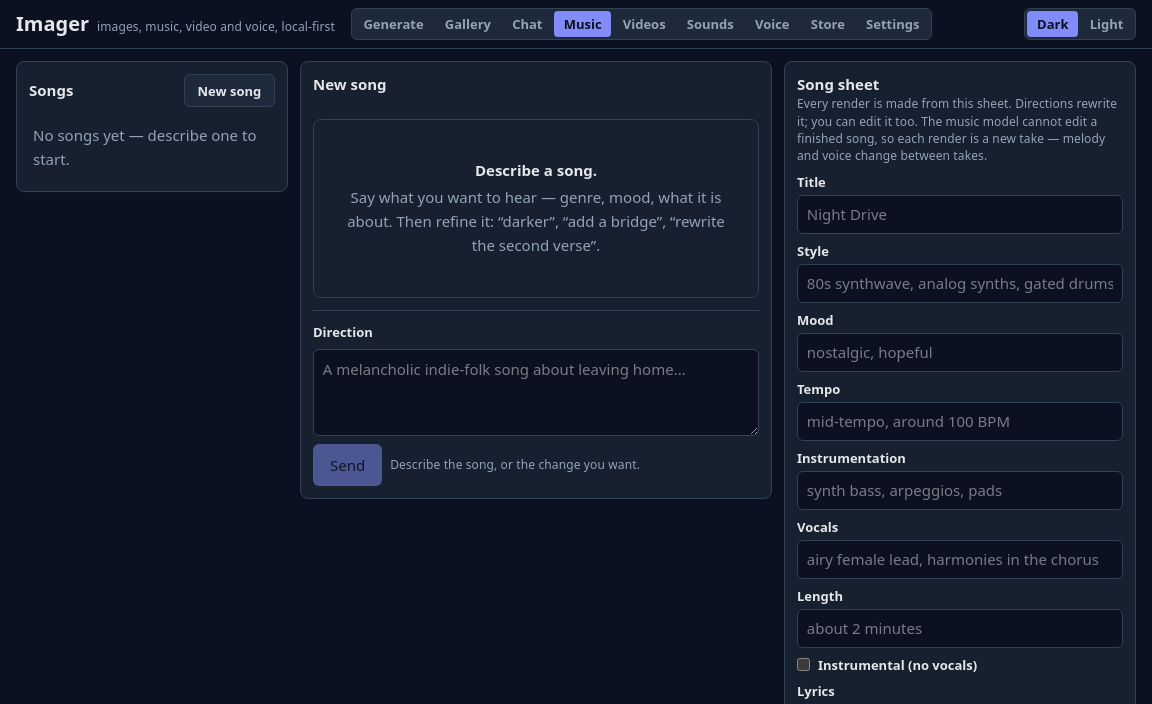
Test: a refinement sends the sheet AS IT STANDS ON SCREEN, hand edits included
Type "synthwave night drive" into the text box labelled "Direction" at (536, 393), box [313,349,759,436]
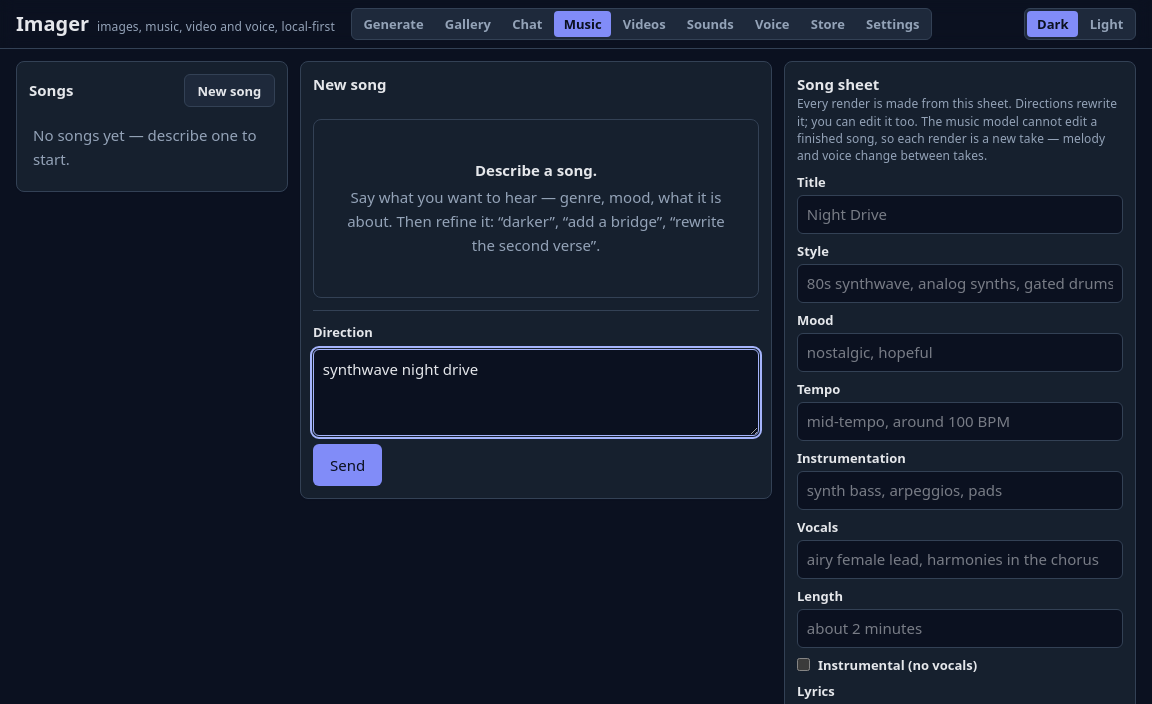
Click the button "Send" at (348, 465), box [313,444,382,486]
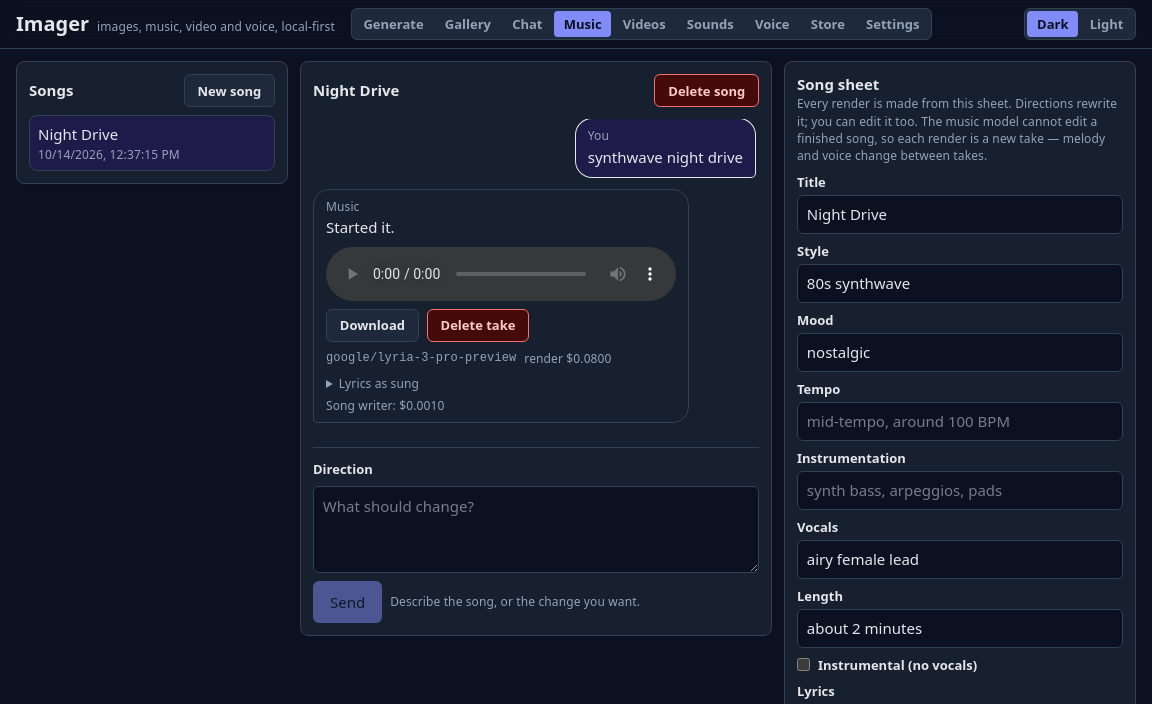
Expected: the element named "Play Night Drive" is shown, [326,247,676,301]
Replace the text in the field labelled "Mood" with "melancholic" at (960, 352), box [797,333,1123,372]
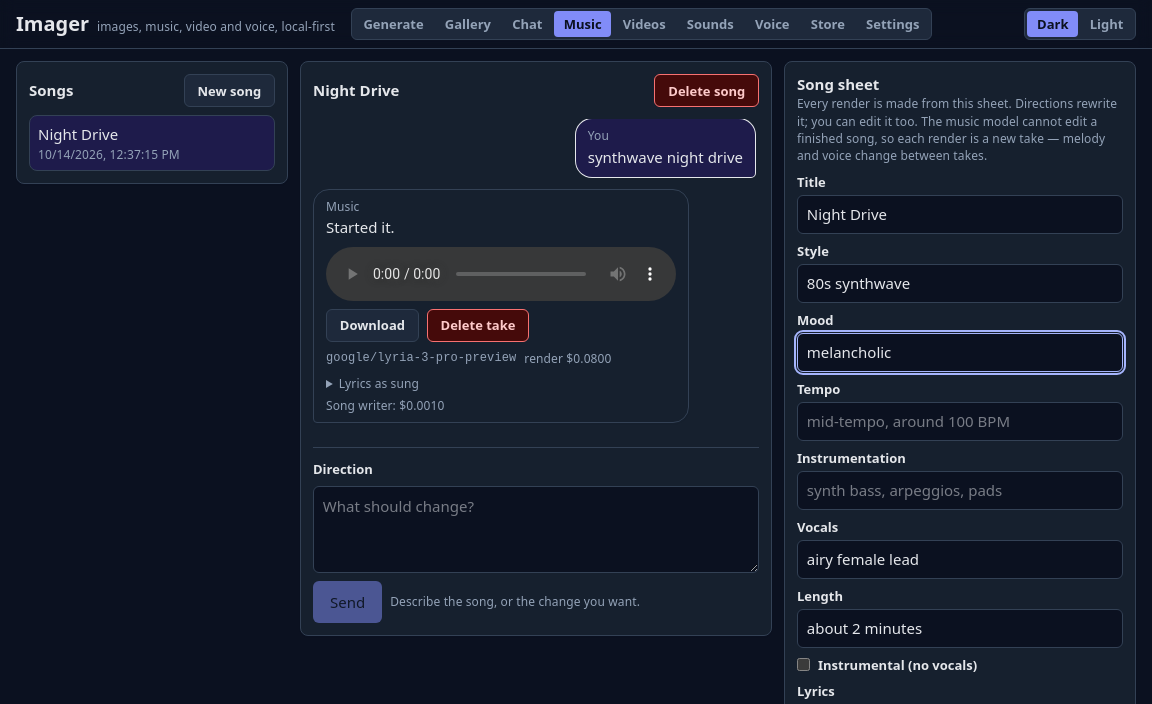
Type "make it darker" into the text box labelled "Direction" at (536, 530), box [313,486,759,573]
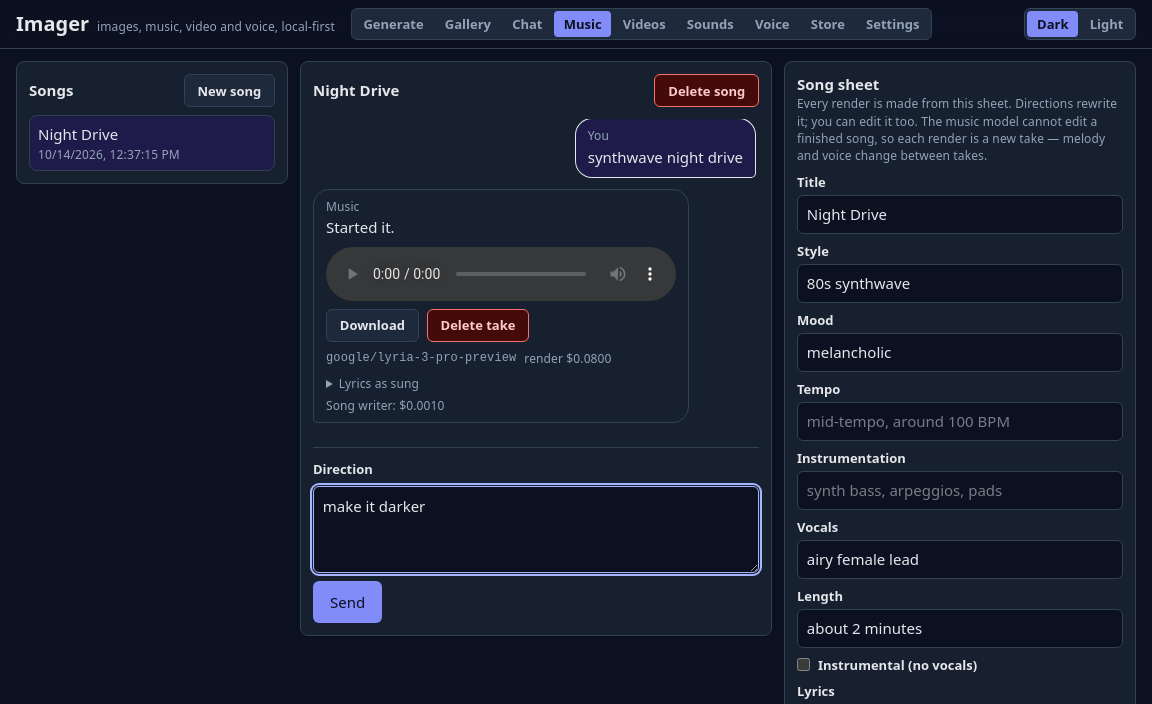
Click the button "Send" at (348, 602), box [313,581,382,623]
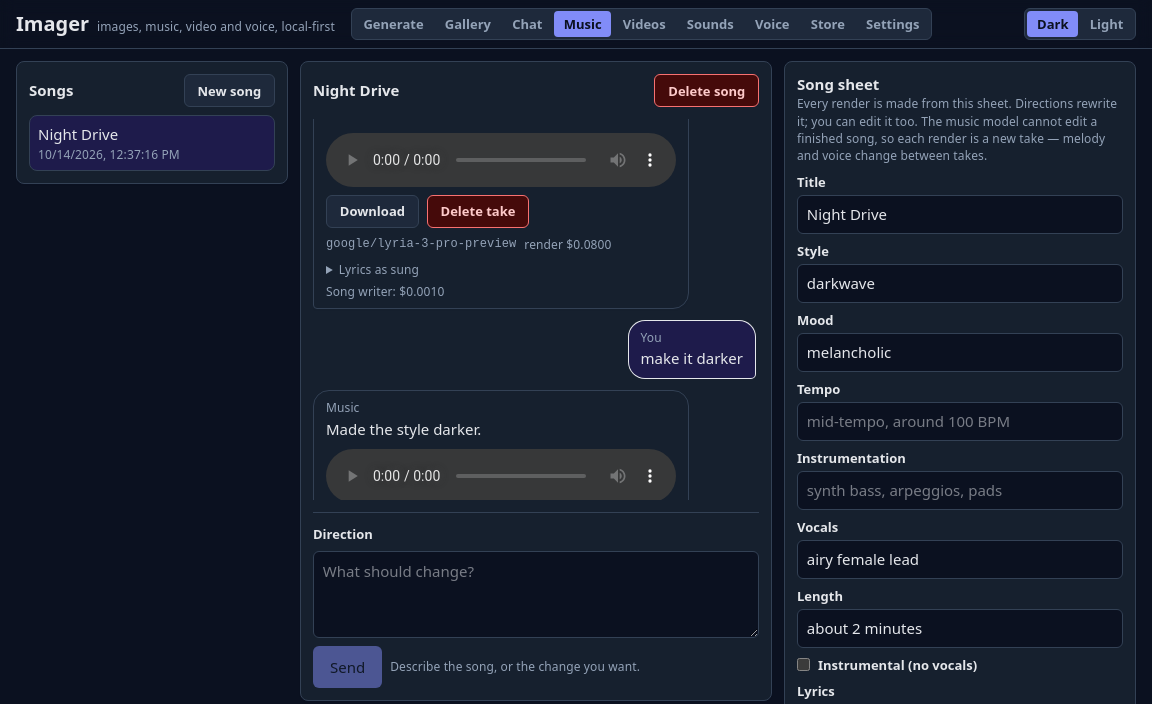
Expected: the text "Made the style darker." is shown, [326,419,481,439]
Expected: the field labelled "Style" holds "darkwave", [797,264,1123,303]
